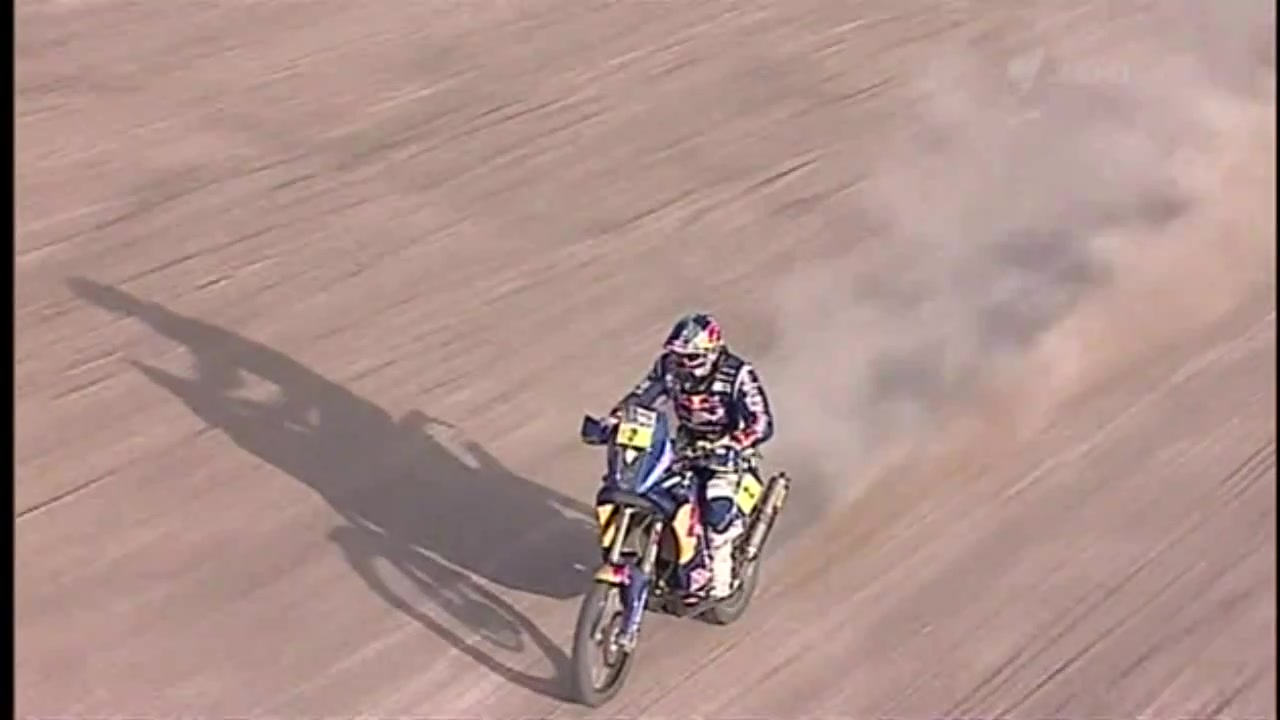motorbike: (566, 414, 788, 711)
